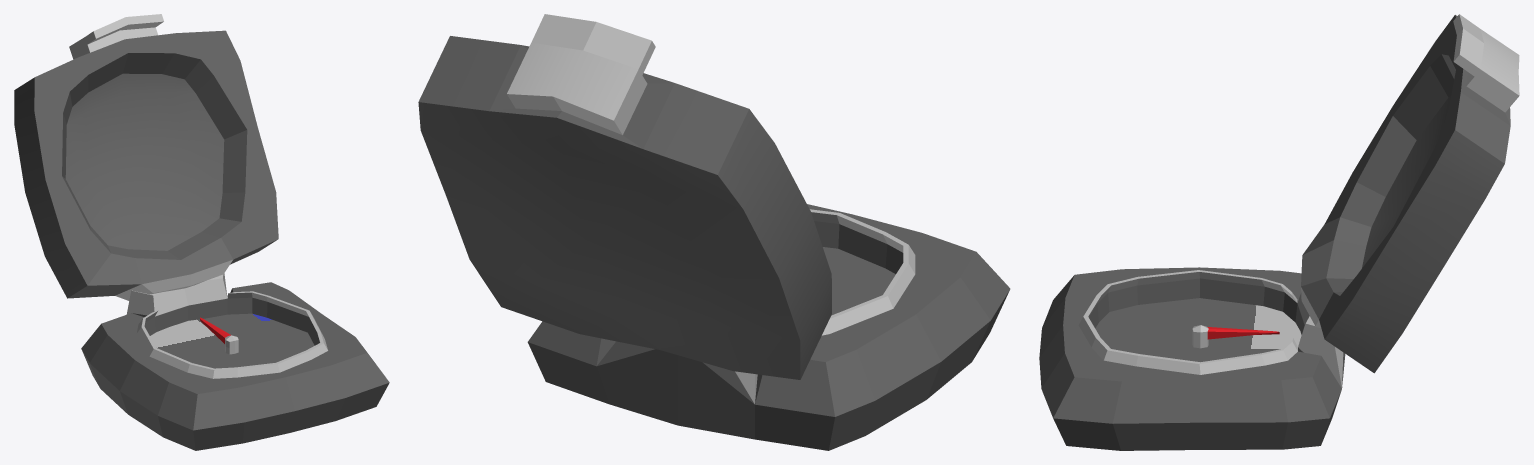
File: compass.fbx
3 views of the same model, side by side, from view 1: azimuth 30°, elevation 25°; view 2: azimuth 150°, elevation 25°; view 3: azimuth 270°, elevation 25° (orthographic). The views are drawn at different scales.
Visible parts, largest first — view 1: Cover, Base, Coordinates, Dial; view 2: Cover, Base, Coordinates; view 3: Cover, Base, Coordinates, Dial.
Boxes of the visible parts, left/top/right/bottom form: Cover: left=14, top=14, right=278, bottom=300; Base: left=81, top=273, right=389, bottom=450; Coordinates: left=150, top=313, right=314, bottom=368; Dial: left=200, top=317, right=238, bottom=354; Cover: left=418, top=14, right=831, bottom=379; Base: left=527, top=204, right=1010, bottom=450; Coordinates: left=823, top=247, right=895, bottom=315; Cover: left=1301, top=14, right=1519, bottom=373; Base: left=1039, top=267, right=1345, bottom=450; Coordinates: left=1095, top=298, right=1301, bottom=362; Dial: left=1192, top=325, right=1279, bottom=348.
Size of the model in its own units: 61.53 by 79.82 by 94.1.
Materials: 3 (3 with a texture image).
